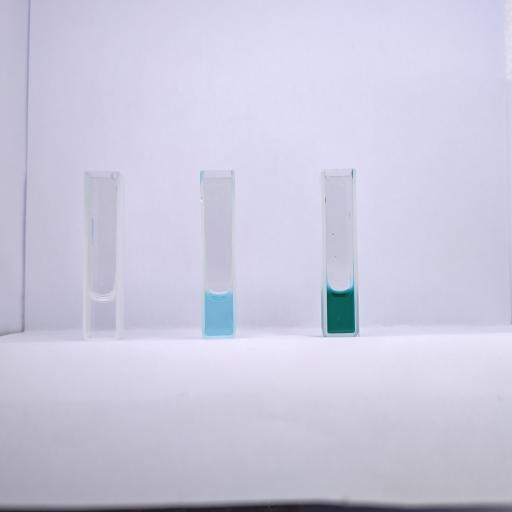cuvette: (318, 166, 361, 342), (82, 167, 124, 347), (198, 168, 238, 342)
liquid: (327, 286, 354, 333), (205, 292, 233, 334), (89, 294, 115, 336)
